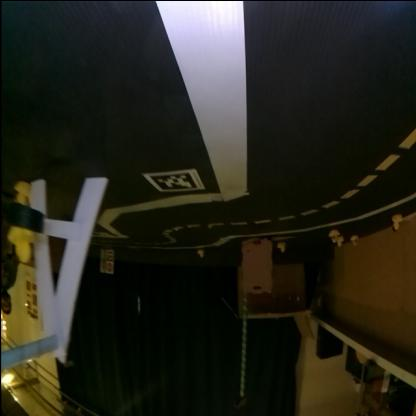Duckie: (392, 215, 402, 229), (329, 230, 339, 242), (277, 243, 285, 252), (351, 236, 358, 245), (197, 250, 204, 258), (338, 238, 344, 246)
QR code: (143, 170, 203, 192)
